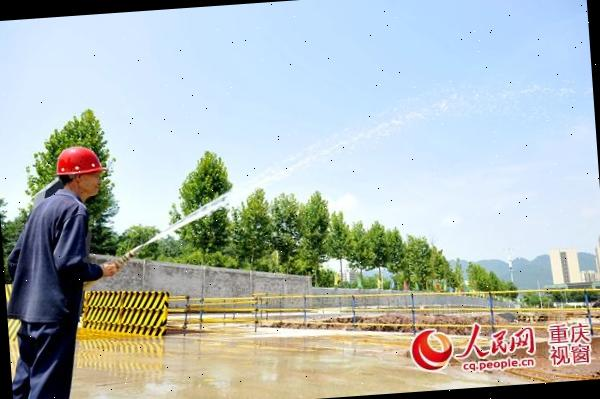helmet: (52, 142, 104, 180)
no_wear: (11, 196, 81, 323)
